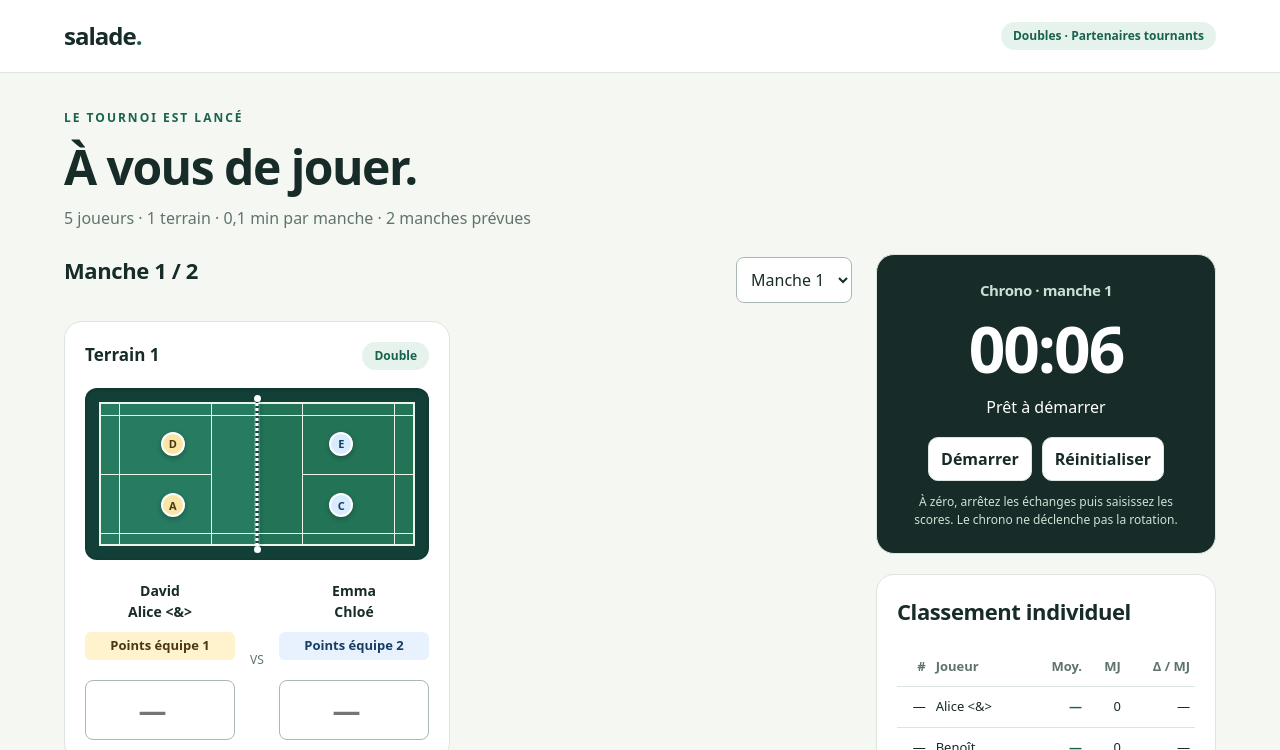
it: application Vue › signale les scores invalides sans modifier la sauvegarde
This screenshot has width=1280, height=750.
Type "-1" into the number field labelled "Points équipe 1" at (160, 710), box [85,680,235,740]
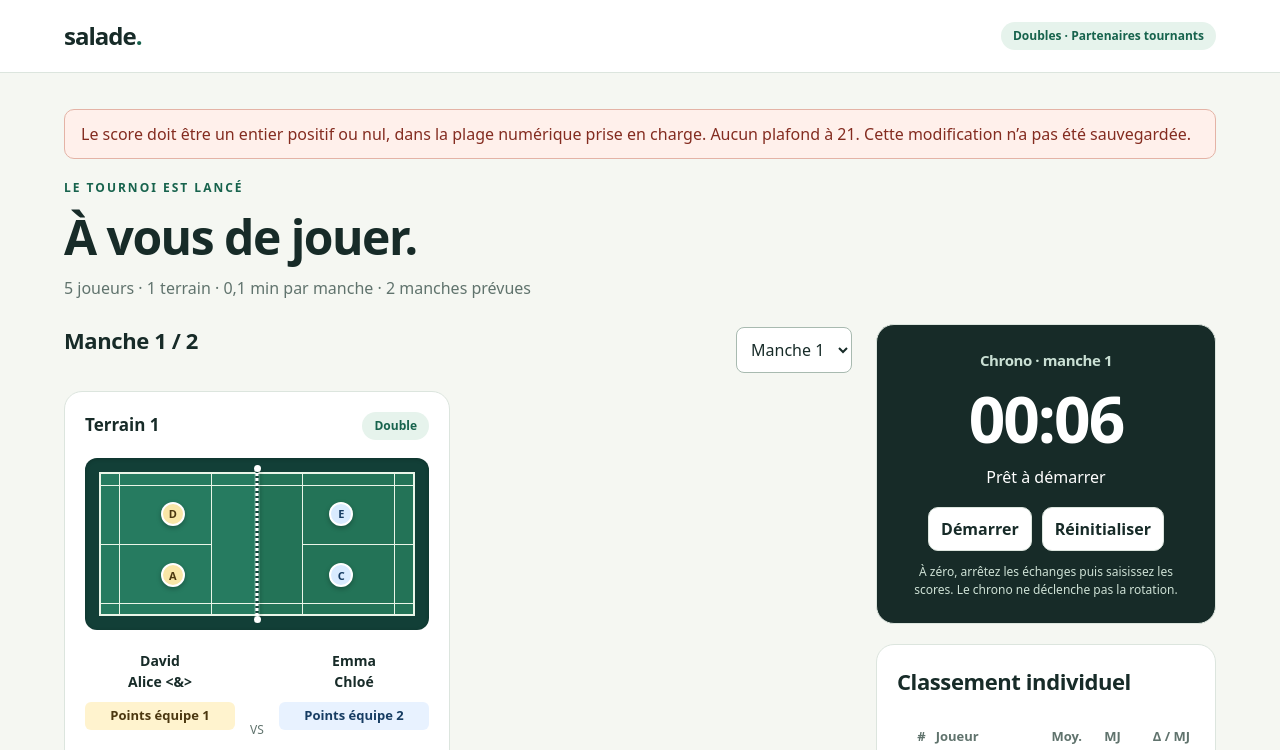
Result: the message with id "error" shows "entier" at [81,123,1191,145]
